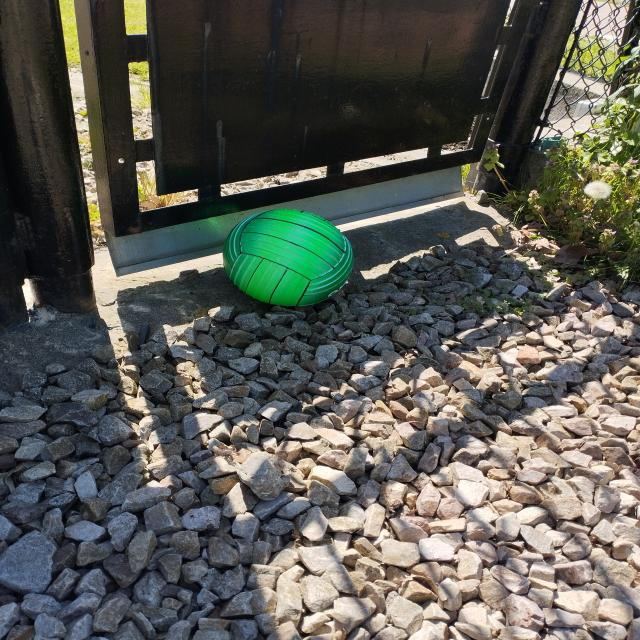zielona: (224, 210, 352, 305)
